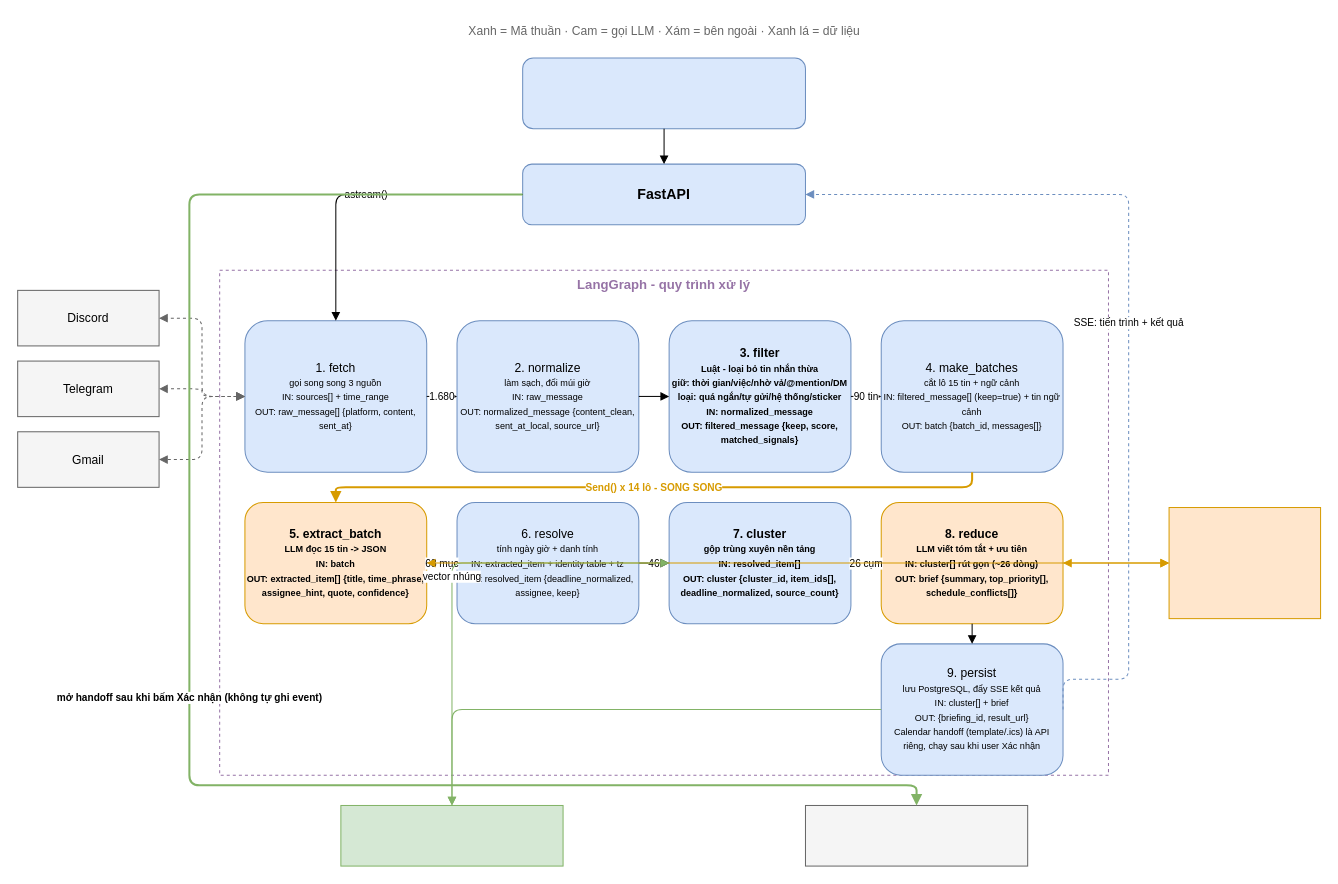
The diagram is 1338 pixels wide and 884 high, and some of its shapes have lost their labels. Each missing label, with the centre of its shape:
"Google Calendar P0: chỉ template URL / .ics KHÔNG OAuth, KHÔNG CRUD event" goes at point (916, 835).
"LLM mô hình rẻ cho extract mô hình mạnh cho reduce" goes at point (1244, 563).
"PostgreSQL + pgvector tin nhắn, việc, cụm" goes at point (451, 835).
"React (ứng dụng web) chọn nguồn + chọn khoảng thời gian hộp duyệt việc" goes at point (663, 93).
